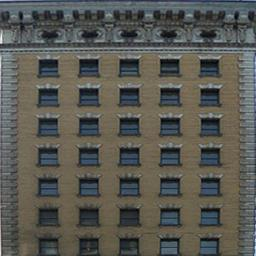building: (1, 2, 256, 256)
